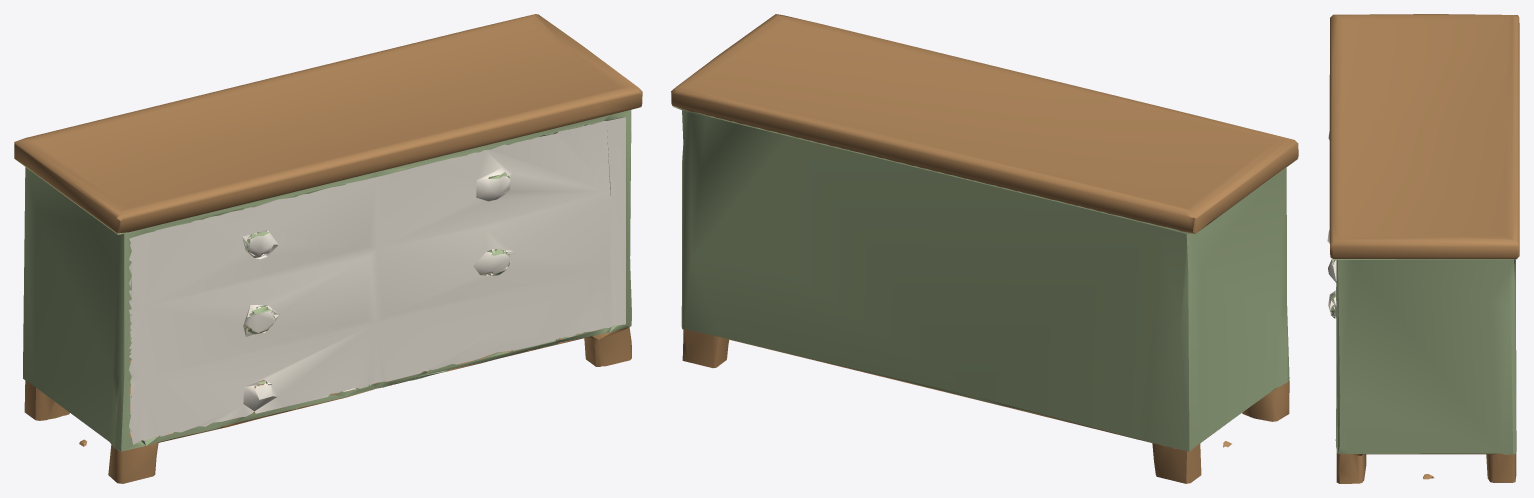
File: dresser.glb
3 renders of one model, left to right at view 1: azimuth 30°, elevation 25°; view 2: azimuth 150°, elevation 25°; view 3: azimuth 270°, elevation 25°, orthographic. The views are drawn at different scales.
Visible parts, largest first — view 1: dresser_drawer, dresser_oak, dresser_paint; view 2: dresser_paint, dresser_oak; view 3: dresser_oak, dresser_paint, dresser_drawer.
Boxes of the visible parts, x1,y1,x2,y2 form: dresser_drawer: (129, 117, 625, 444); dresser_oak: (14, 14, 642, 483); dresser_paint: (17, 106, 641, 451); dresser_paint: (672, 106, 1298, 451); dresser_oak: (671, 14, 1298, 483); dresser_oak: (1329, 14, 1519, 483); dresser_paint: (1330, 258, 1516, 454); dresser_drawer: (1327, 131, 1336, 318).
Size of the model in its own units: 1.9 by 0.9416 by 0.6699.
